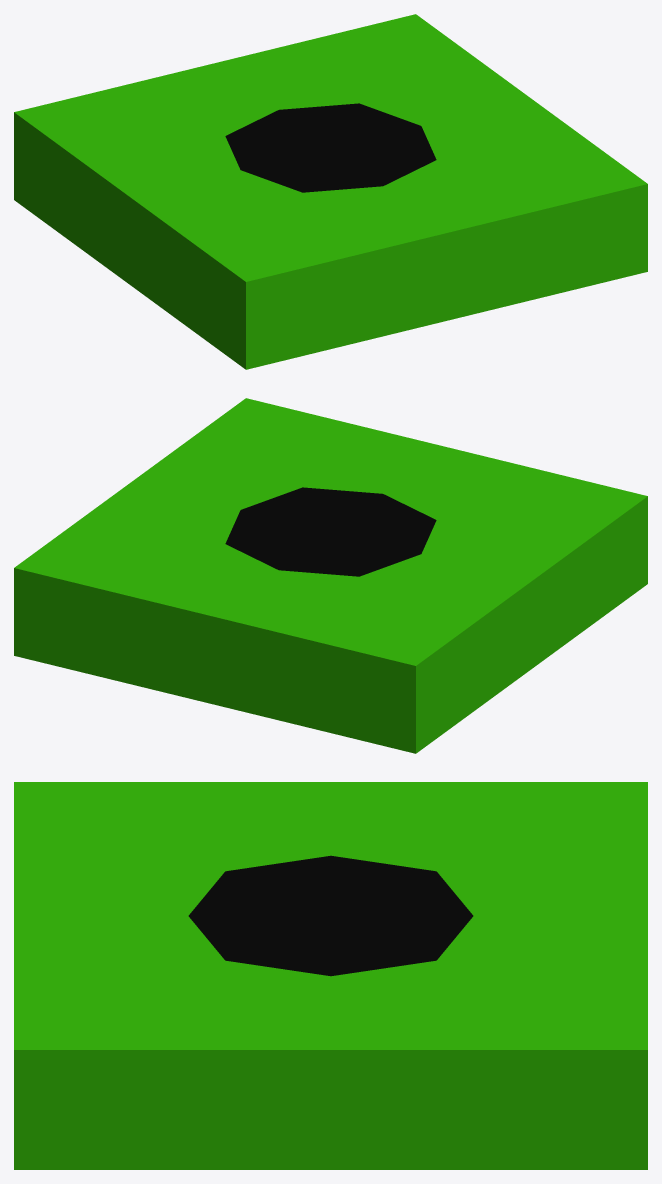
The picture shows the model from 3 angles, top to bottom: view 1: azimuth 30°, elevation 25°; view 2: azimuth 150°, elevation 25°; view 3: azimuth 270°, elevation 25°; orthographic projection. The views are drawn at different scales.
Parts seen in each view (by area): view 1: Box.001; view 2: Box.001; view 3: Box.001.
Boxes of the visible parts, x1,y1,x2,y2 form: Box.001: (14,14,647,369); Box.001: (14,398,647,753); Box.001: (14,782,647,1169).
Bounding box in the file's own units: 52.72 × 11.01 × 52.72.
